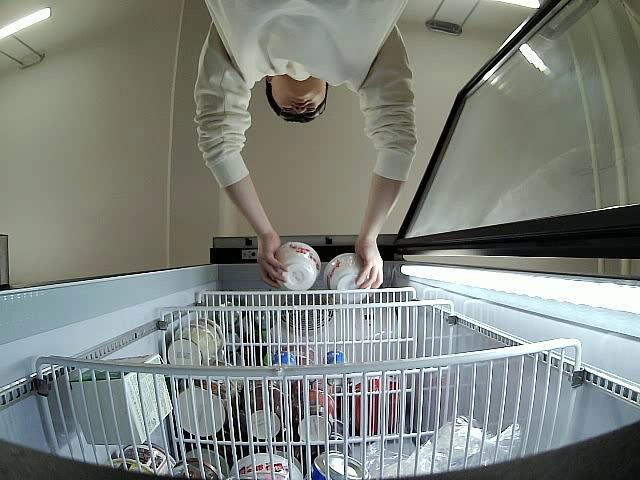00_hand: (255, 223, 289, 287), (353, 231, 384, 289)
09_yukGaeJang: (273, 241, 322, 289), (323, 255, 369, 305)
